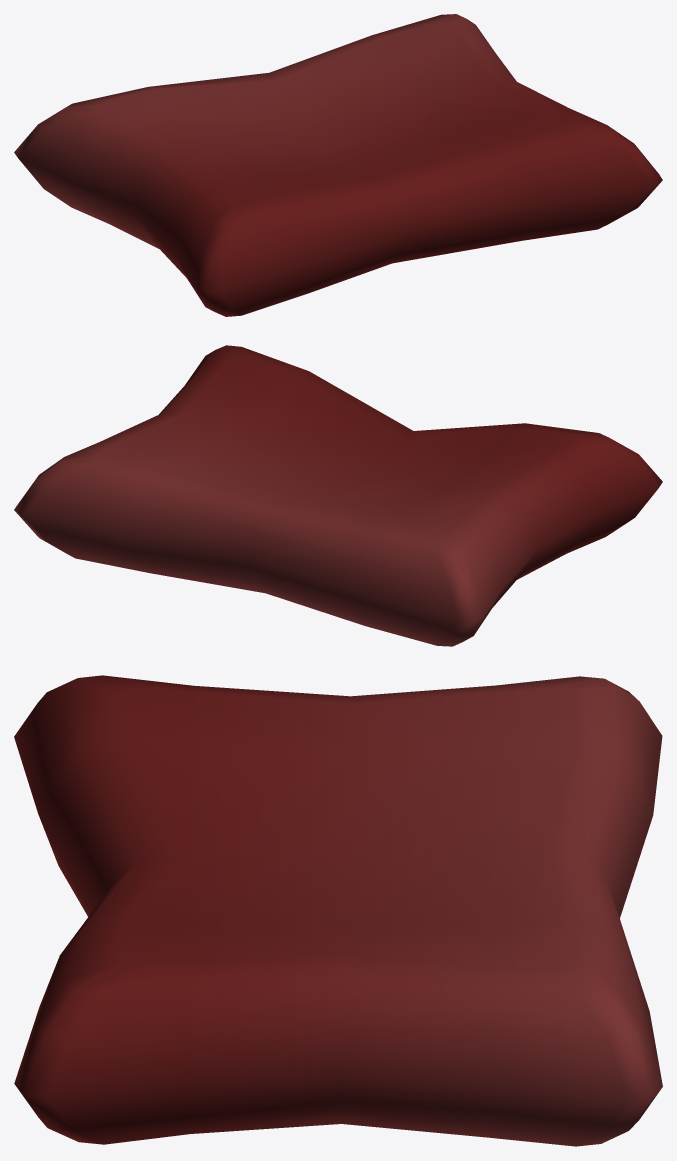
File: SM_Pillows_01.fbx
3 views of the same model, one above another, from view 1: azimuth 30°, elevation 25°; view 2: azimuth 150°, elevation 25°; view 3: azimuth 270°, elevation 25° (orthographic). The views are drawn at different scales.
Parts seen in each view (by area): view 1: SM_Pillow_01; view 2: SM_Pillow_01; view 3: SM_Pillow_01.
Part boxes in pixels (bbox=[...]): SM_Pillow_01: bbox=[14, 14, 662, 316]; SM_Pillow_01: bbox=[14, 345, 662, 646]; SM_Pillow_01: bbox=[14, 675, 662, 1146].
Bounding box in the file's own units: 114 × 26.58 × 83.45.
